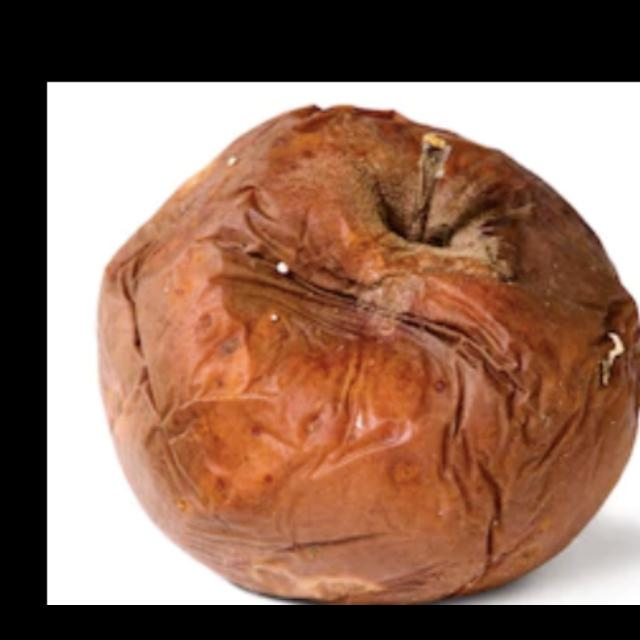Apel Tidak Segar: (74, 89, 640, 592)
